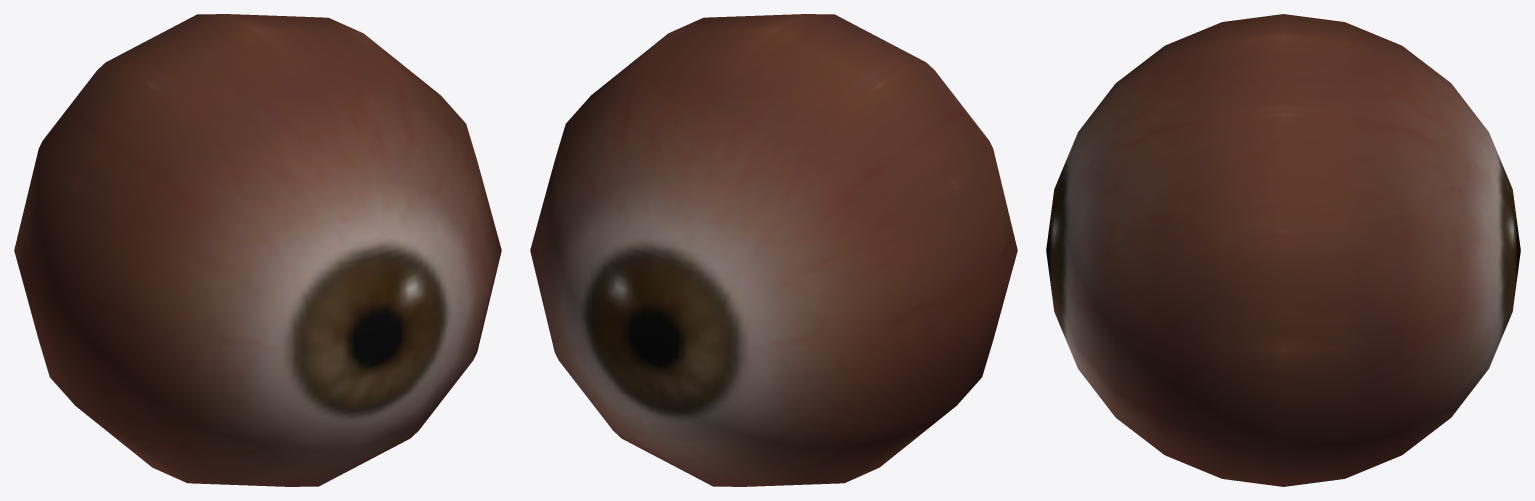
Rendered from Uth_Eye_Lt_MshShape.obj.
The picture shows the model from 3 angles, left to right: view 1: azimuth 30°, elevation 25°; view 2: azimuth 150°, elevation 25°; view 3: azimuth 270°, elevation 25°; orthographic projection. The views are drawn at different scales.
Visible parts, largest first — view 1: Uth_Eye_Lt_Msh Head_Grp SkinnedMesh Mesh CharacterRoot; view 2: Uth_Eye_Lt_Msh Head_Grp SkinnedMesh Mesh CharacterRoot; view 3: Uth_Eye_Lt_Msh Head_Grp SkinnedMesh Mesh CharacterRoot.
Boxes of the visible parts, left/top/right/bottom form: Uth_Eye_Lt_Msh Head_Grp SkinnedMesh Mesh CharacterRoot: left=14, top=14, right=501, bottom=486; Uth_Eye_Lt_Msh Head_Grp SkinnedMesh Mesh CharacterRoot: left=530, top=14, right=1017, bottom=486; Uth_Eye_Lt_Msh Head_Grp SkinnedMesh Mesh CharacterRoot: left=1046, top=14, right=1520, bottom=486.
Size of the model in its own units: 3.98 by 3.98 by 3.98.
1 material, 1 textured.
